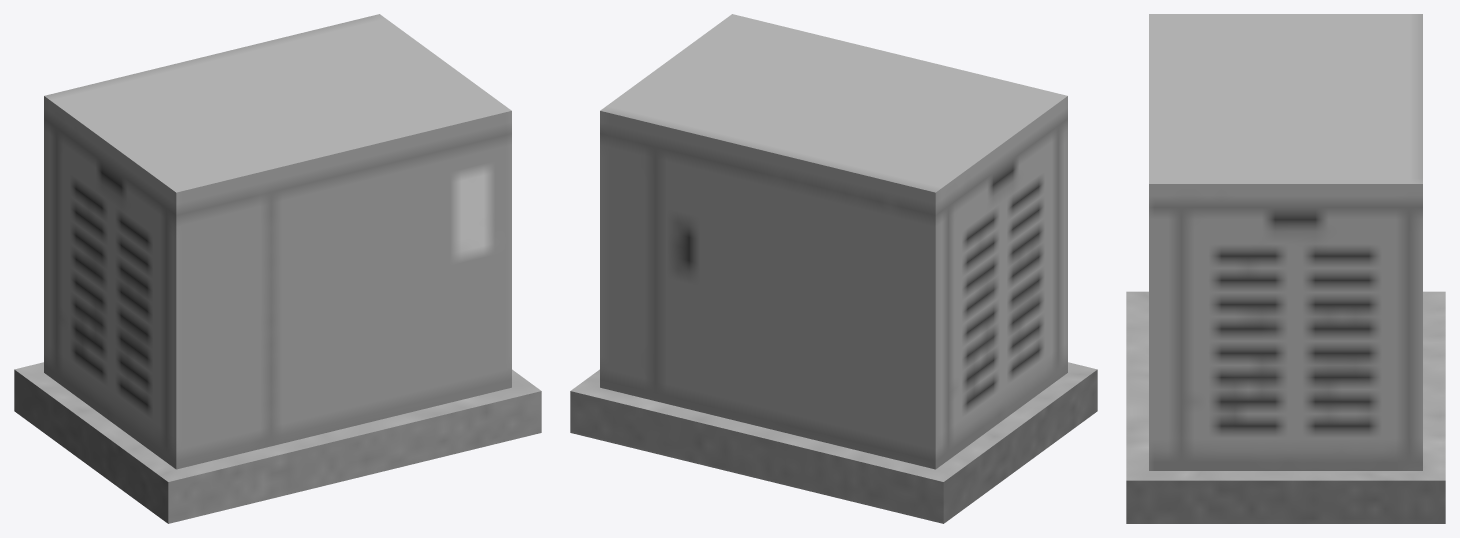
The model's file is Switch_Box_001_C.FBX.
The picture shows the model from 3 angles, left to right: view 1: azimuth 30°, elevation 25°; view 2: azimuth 150°, elevation 25°; view 3: azimuth 270°, elevation 25°; orthographic projection. The views are drawn at different scales.
Visible parts, largest first — view 1: Switch_Box_001_C; view 2: Switch_Box_001_C; view 3: Switch_Box_001_C.
Boxes of the visible parts, x1,y1,x2,y2 form: Switch_Box_001_C: (14,14,541,523); Switch_Box_001_C: (570,14,1097,523); Switch_Box_001_C: (1126,14,1445,523).
Size of the model in its own units: 140 by 100 by 114.
